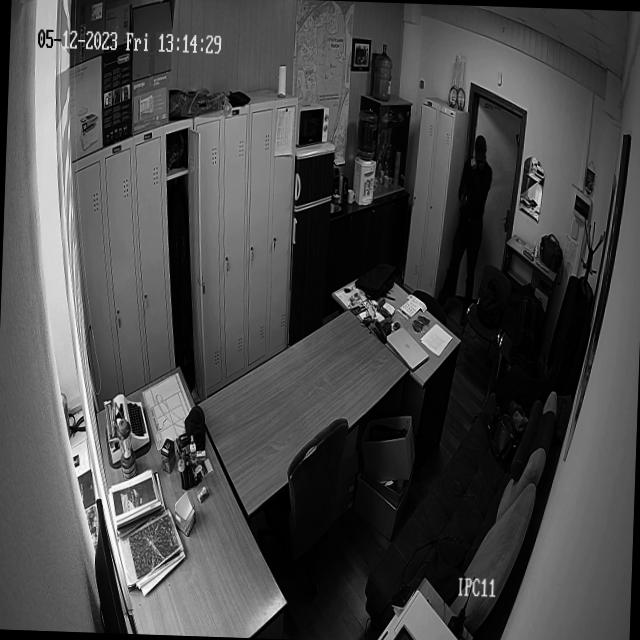gun: (458, 190, 468, 216)
person with a gun: (453, 134, 490, 318)
